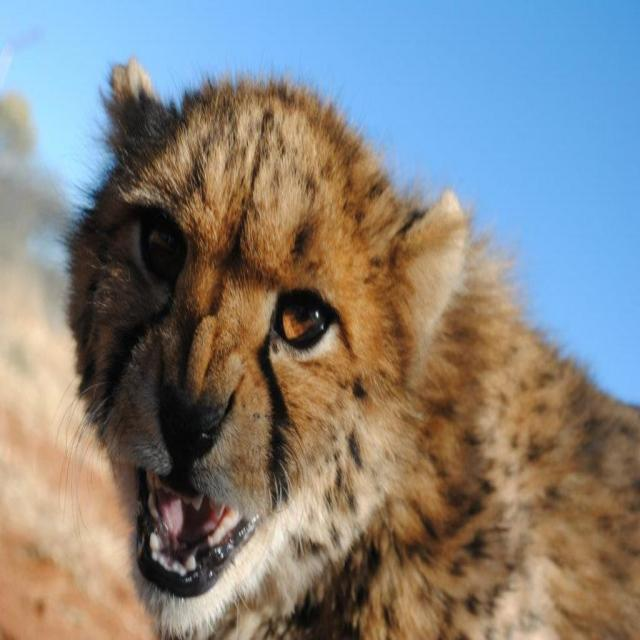Cheetah: (51, 56, 639, 639)
